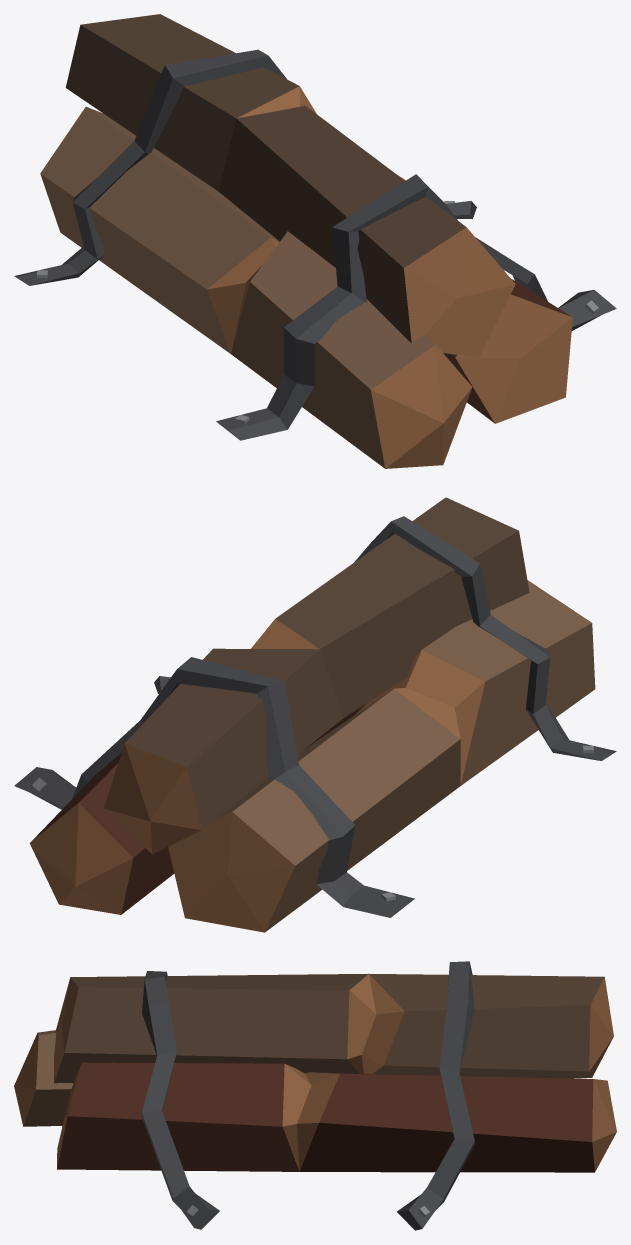
File: SM_LWoodstok.fbx
3 renders of one model, top to bottom at view 1: azimuth 30°, elevation 25°; view 2: azimuth 150°, elevation 25°; view 3: azimuth 270°, elevation 25°, orthographic. The views are drawn at different scales.
Parts seen in each view (by area): view 1: SM_L_Woodstok; view 2: SM_L_Woodstok; view 3: SM_L_Woodstok.
Boxes of the visible parts, <box> form: SM_L_Woodstok: <box>14,14,616,468</box>; SM_L_Woodstok: <box>14,497,616,932</box>; SM_L_Woodstok: <box>14,961,616,1230</box>.
Size of the model in its own units: 156 by 74.74 by 235.
